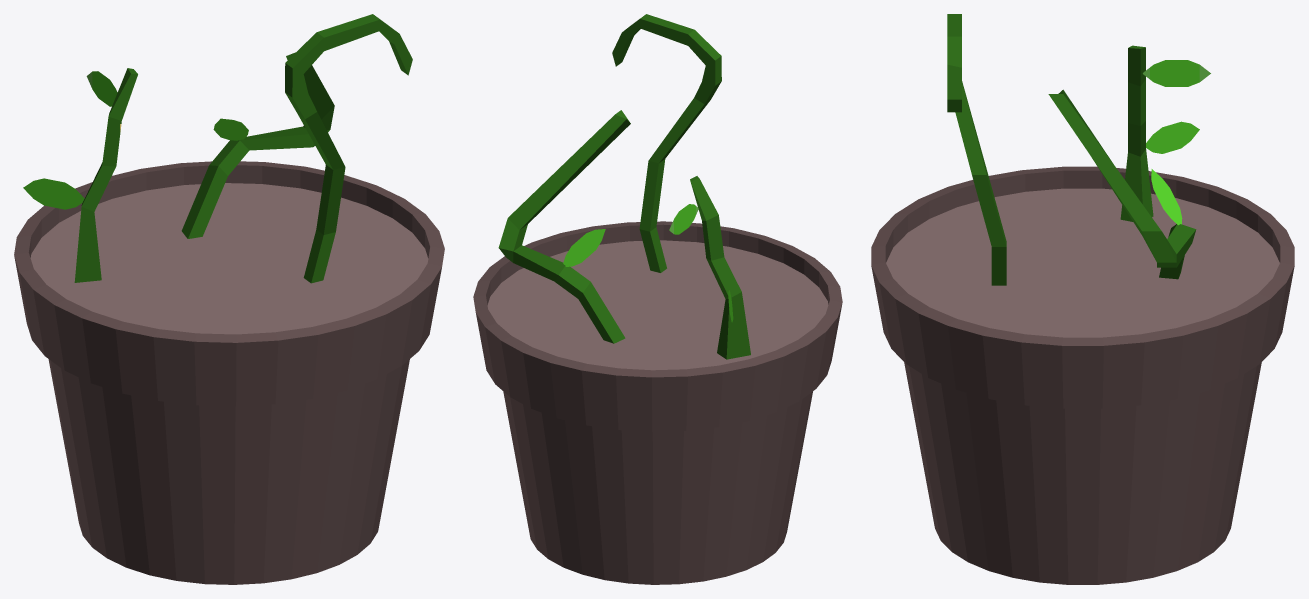
Rendered from plant.gltf.
3 views of the same model, side by side, from view 1: azimuth 30°, elevation 25°; view 2: azimuth 150°, elevation 25°; view 3: azimuth 270°, elevation 25° (orthographic). The views are drawn at different scales.
Parts seen in each view (by area): view 1: cylinder, cuboid (×2), plane (×3); view 2: cylinder, cuboid (×2), plane (×2); view 3: cylinder, cuboid (×2), plane (×3).
Boxes of the visible parts, box(x1,y1,x2,y2) form: cylinder: box(14, 68, 444, 584); cuboid (×2): box(181, 14, 412, 283); plane (×3): box(23, 71, 248, 209); cylinder: box(473, 176, 842, 584); cuboid (×2): box(498, 14, 721, 343); plane (×2): box(563, 204, 698, 266); cylinder: box(871, 45, 1294, 584); cuboid (×2): box(947, 14, 1196, 285); plane (×3): box(1143, 60, 1210, 225).
Size of the model in its own units: 0.5366 by 0.7344 by 0.5366.
